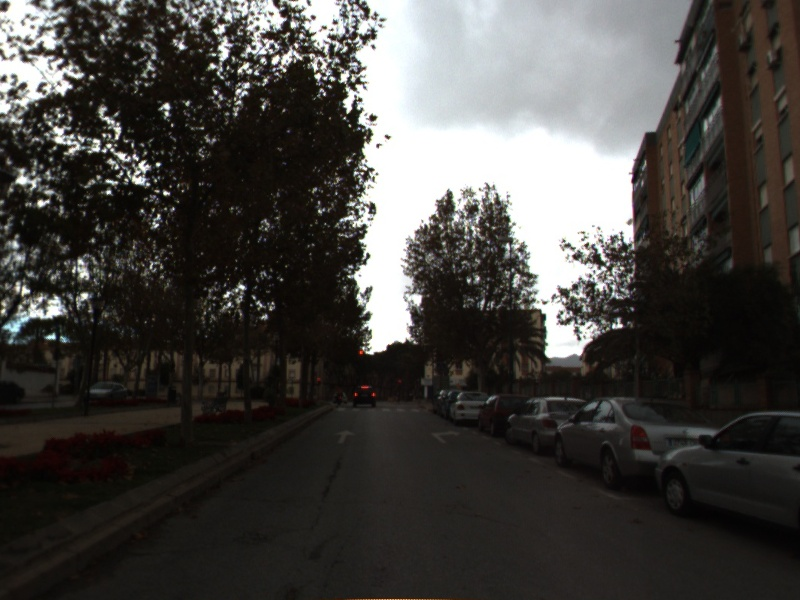RIGHT: (428, 428, 463, 445)
STRAIGHT: (332, 428, 358, 446)
